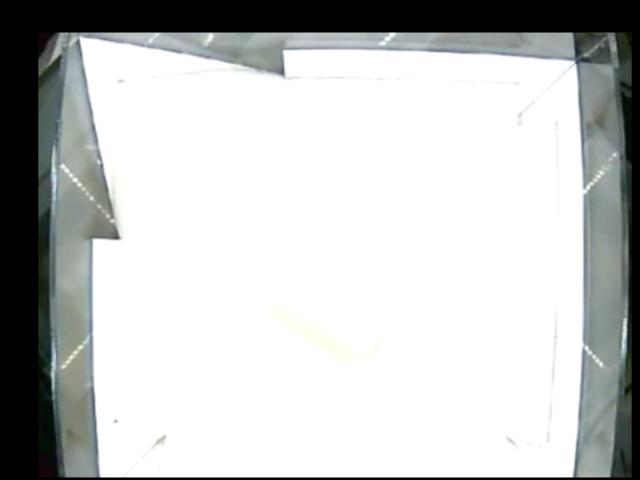Mooli: (265, 267, 388, 359)
